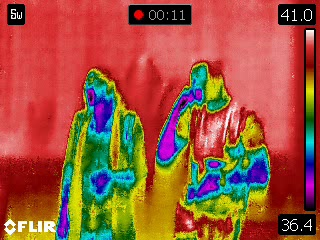human: (155, 59, 272, 240), (57, 66, 149, 240)
